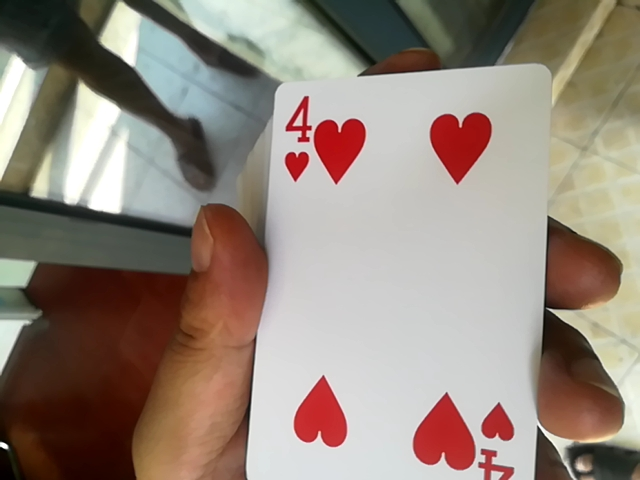hx 4: (229, 71, 563, 469)
